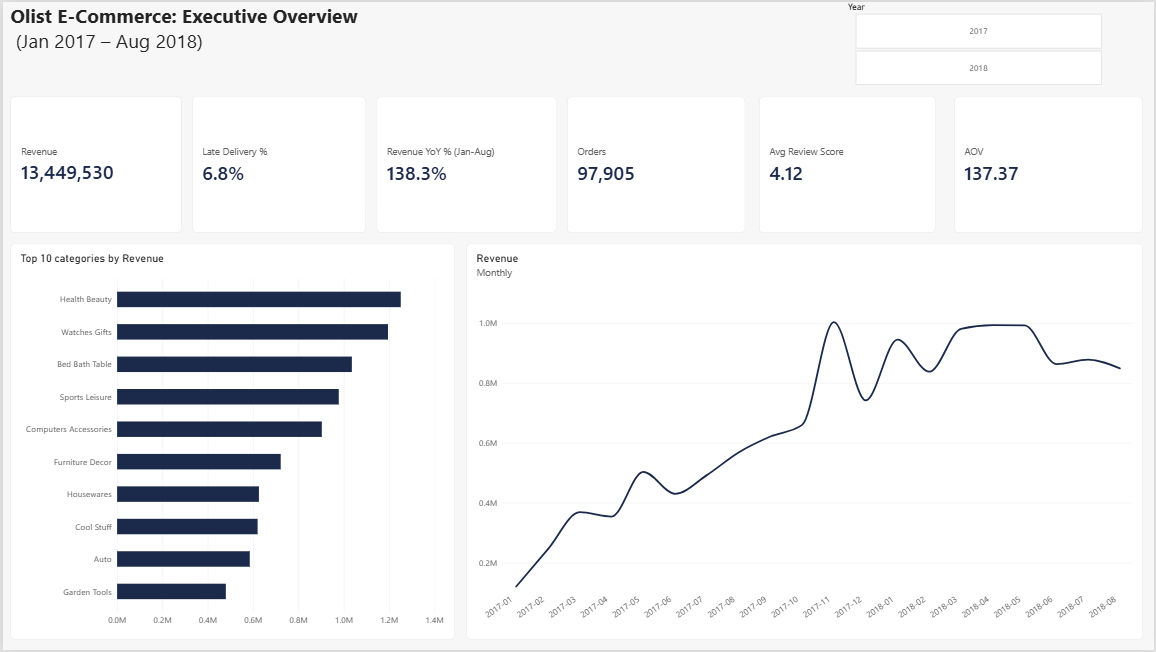

The page's visual inventory and layout, read from the dashboard file:
{"tool":"powerbi","page":{"name":"Executive Overview","canvas":[1920,1080],"ordinal":0},"visuals":[{"type":"cardVisual","fields":{"Data":["Date.Revenue"]},"box":[12.5,157.5,285,227.5],"z":0},{"type":"cardVisual","fields":{"Data":["Date.Orders"]},"box":[940,157.5,297.5,227.5],"z":1000},{"type":"cardVisual","fields":{"Data":["Date.AOV"]},"box":[1585,157.5,315,227.5],"z":2000},{"type":"cardVisual","fields":{"Data":["Date.Late Delivery %"]},"box":[315,157.5,290,227.5],"z":3000},{"type":"cardVisual","fields":{"Data":["Date.Avg Review Score"]},"box":[1260,157.5,295,227.5],"z":4000},{"type":"cardVisual","fields":{"Data":["Date.Revenue YoY %"]},"box":[622.5,157.5,300,227.5],"z":5000},{"type":"slicer","fields":{"Values":["Date.Year"]},"box":[1400,0,450,140],"z":6000},{"type":"lineChart","title":"Revenue ","fields":{"Category":["Date.Year-Month"],"Y":["Date.Revenue"]},"box":[772.5,402.5,1127.5,660],"z":7000},{"type":"clusteredBarChart","title":"Top 10 categories by Revenue","fields":{"Category":["vw_dim_product.category"],"Y":["Date.Revenue"]},"box":[12.5,402.5,740,660],"z":8000},{"type":"textbox","box":[12.5,0,975,92.5],"z":9000}]}

Visuals, with their boxes in screenshot pixels (x1, y1, x2, y2), scaled from the page's 1920x1080 canvas onto the 1156x652 screenshot:
cardVisual - Date.Revenue: {"left": 8, "top": 95, "right": 179, "bottom": 232}
cardVisual - Date.Orders: {"left": 566, "top": 95, "right": 745, "bottom": 232}
cardVisual - Date.AOV: {"left": 954, "top": 95, "right": 1144, "bottom": 232}
cardVisual - Date.Late Delivery %: {"left": 190, "top": 95, "right": 364, "bottom": 232}
cardVisual - Date.Avg Review Score: {"left": 759, "top": 95, "right": 936, "bottom": 232}
cardVisual - Date.Revenue YoY %: {"left": 375, "top": 95, "right": 555, "bottom": 232}
slicer - Date.Year: {"left": 843, "top": 0, "right": 1114, "bottom": 85}
"Revenue " lineChart: {"left": 465, "top": 243, "right": 1144, "bottom": 641}
"Top 10 categories by Revenue" clusteredBarChart: {"left": 8, "top": 243, "right": 453, "bottom": 641}
textbox: {"left": 8, "top": 0, "right": 595, "bottom": 56}
